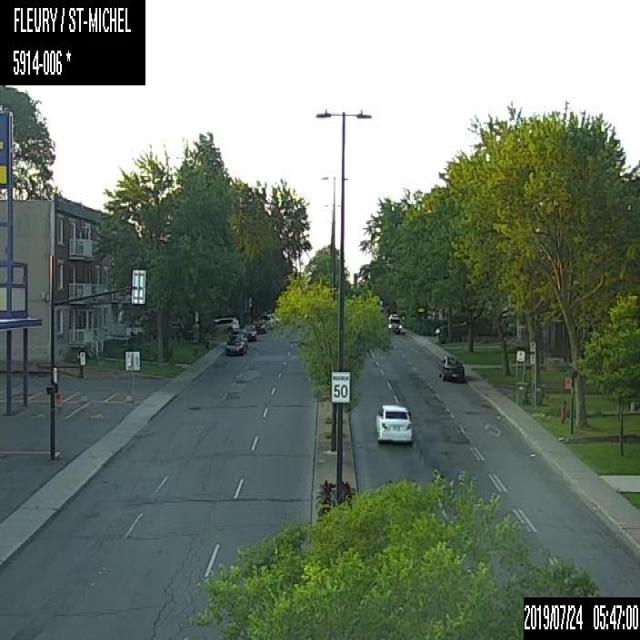vehicle: (372, 402, 413, 442), (434, 352, 464, 380), (223, 329, 246, 356), (214, 315, 239, 331), (385, 312, 400, 332), (242, 322, 256, 343), (252, 318, 267, 336)
